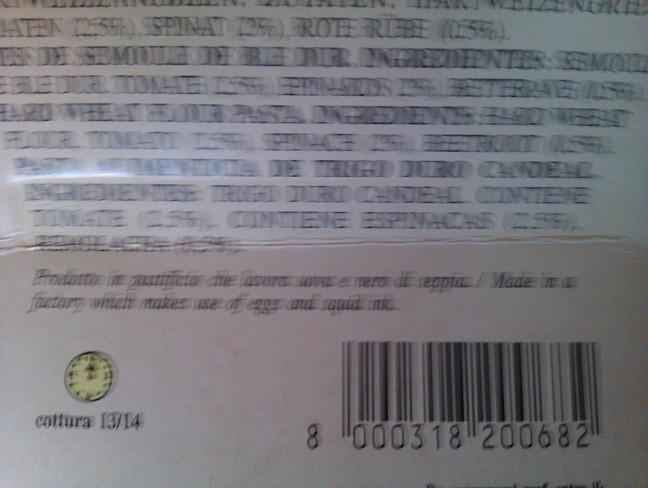Barkod: (287, 328, 612, 459)
